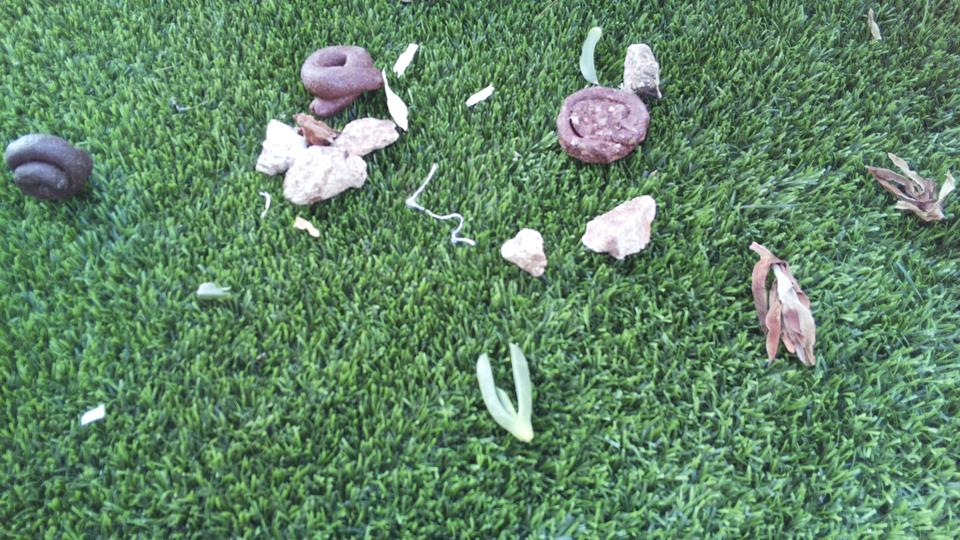poop: (552, 83, 649, 167), (4, 131, 100, 206), (299, 42, 387, 115)
